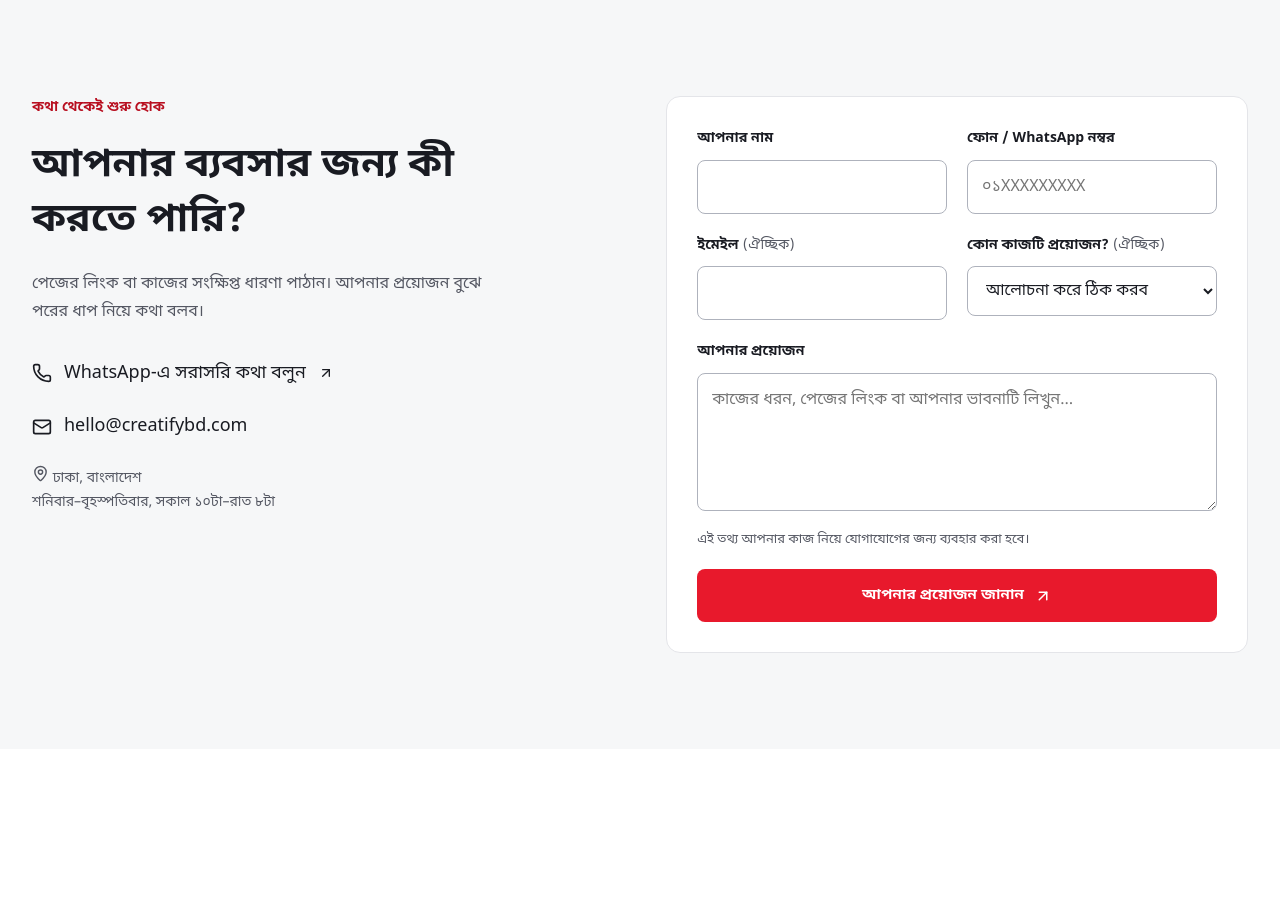
Bengali inquiry form › keeps the draft and allows retry after a network failure
Type "আলিফ হাসান" into the field labelled "আপনার নাম" at (822,186), box [697, 160, 947, 214]
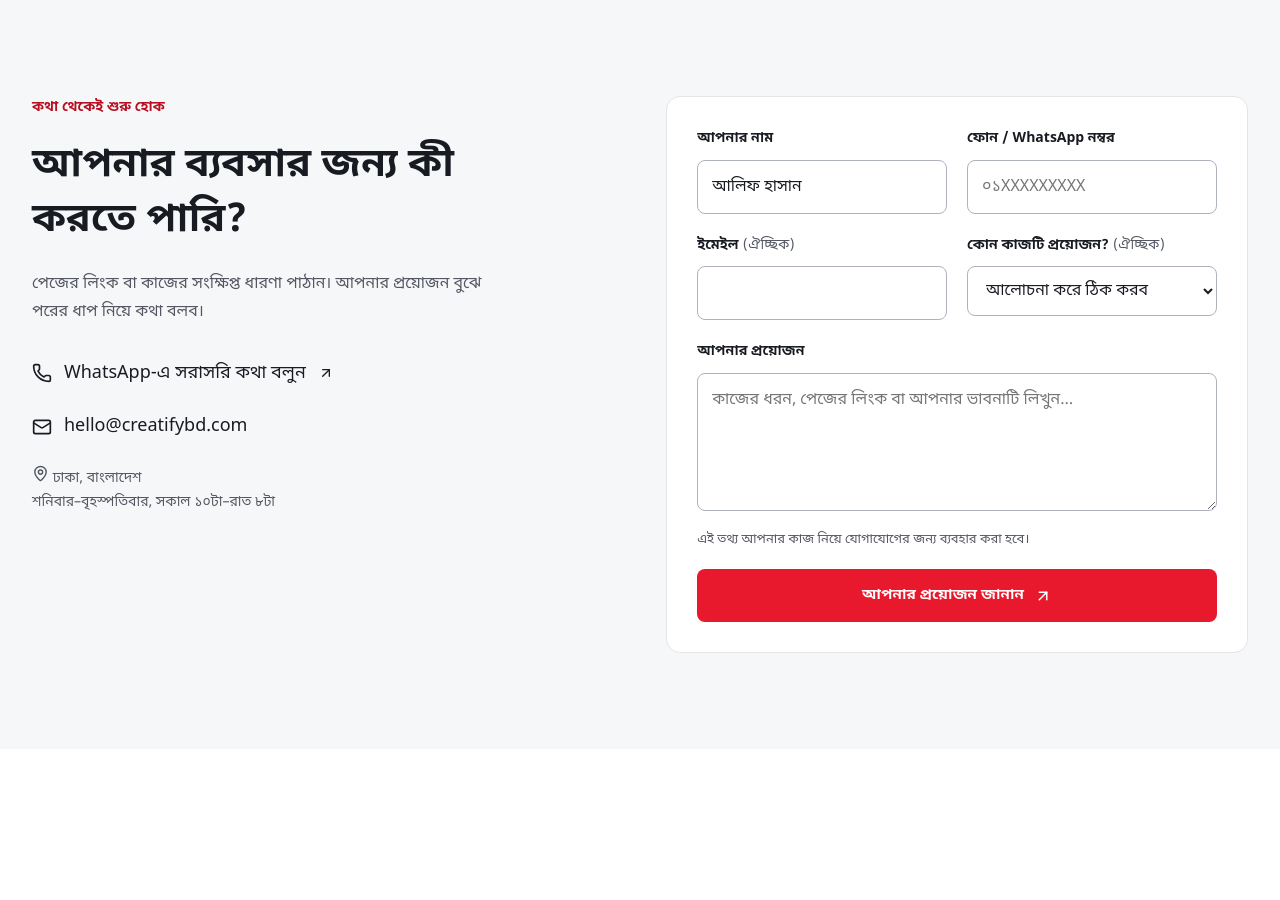
Type "০১৭১২ ৩৪৫৬৭৮" into the field labelled "ফোন / WhatsApp নম্বর" at (1092,186), box [967, 160, 1217, 214]
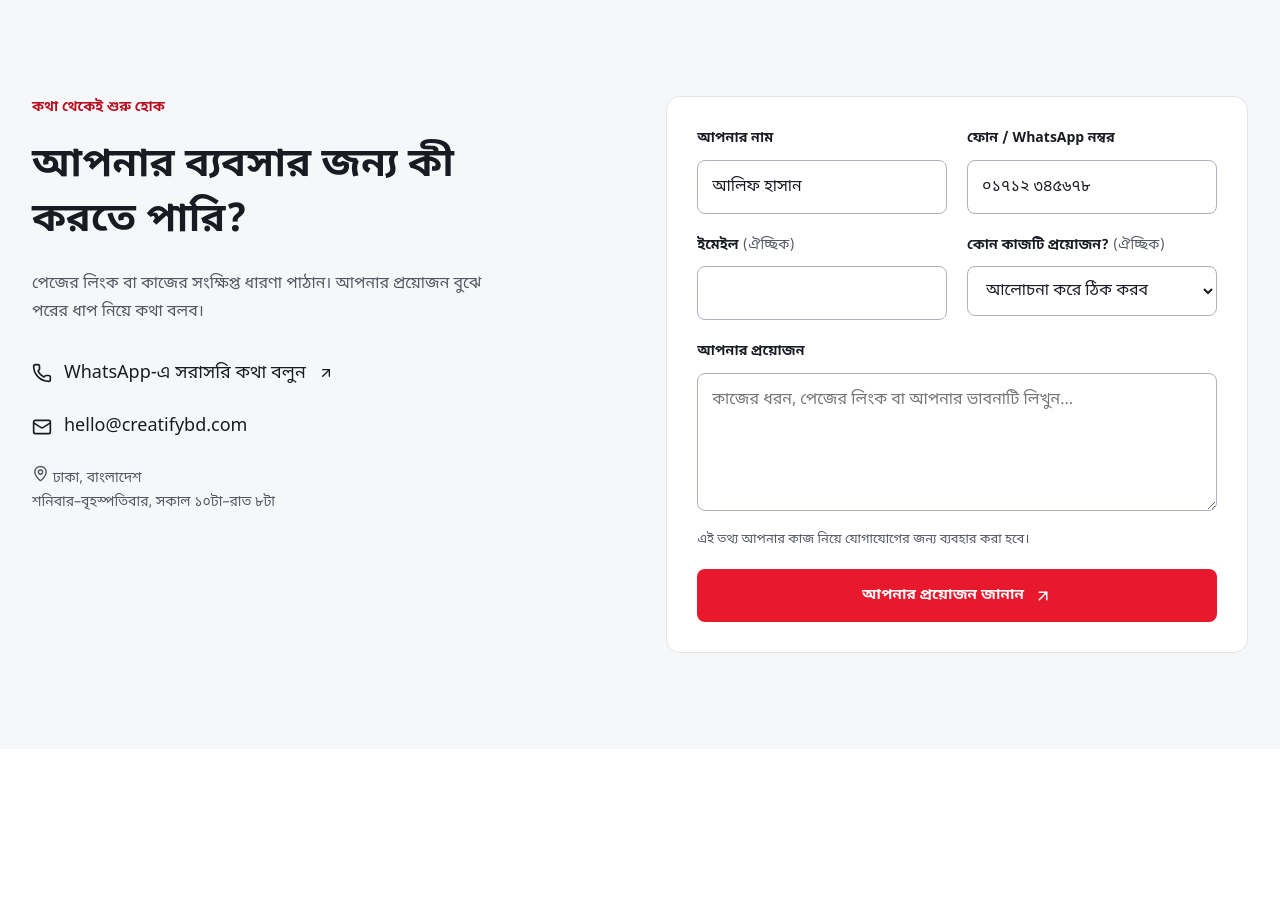
Type "আমার দোকানের জন্য মাসিক পোস্ট ডিজাইন দরকার।" into the text box labelled "আপনার প্রয়োজন" at (957,442), box [697, 372, 1217, 510]
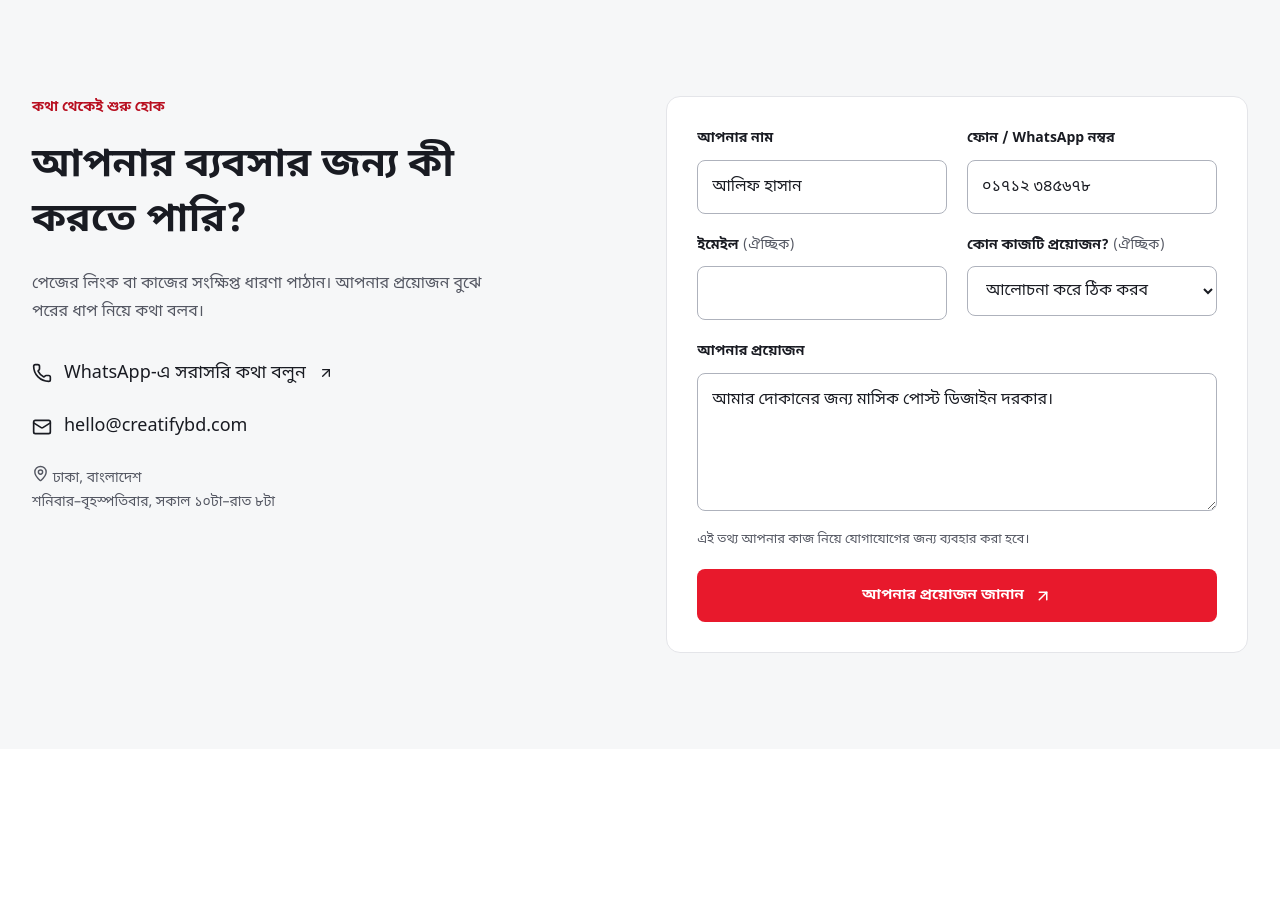
Click the button "আপনার প্রয়োজন জানান" at (957,596), box [697, 569, 1217, 622]
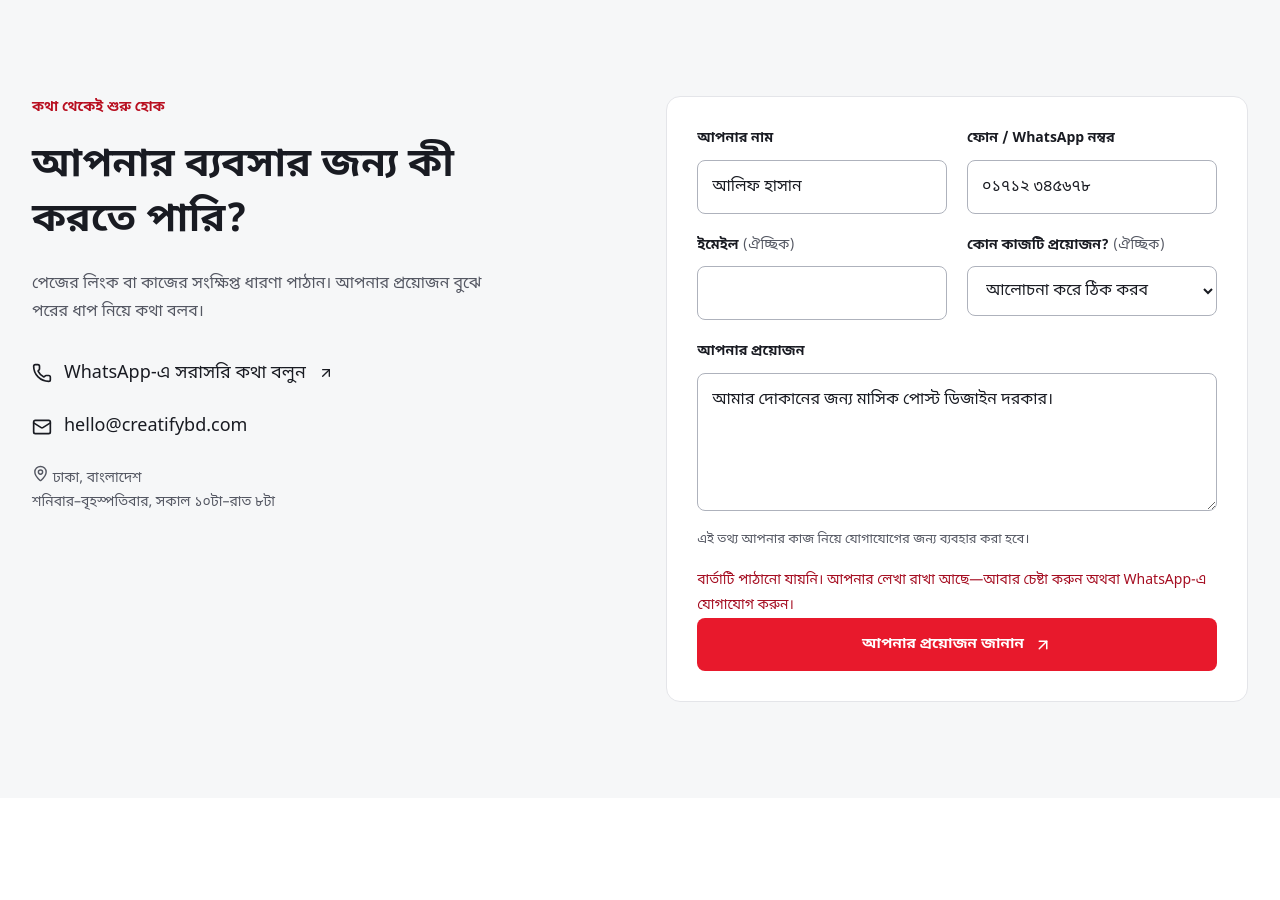
Check: the message shows "আপনার লেখা রাখা আছে", box [697, 571, 1206, 615]
Click the button "আপনার প্রয়োজন জানান" at (957,645), box [697, 618, 1217, 671]
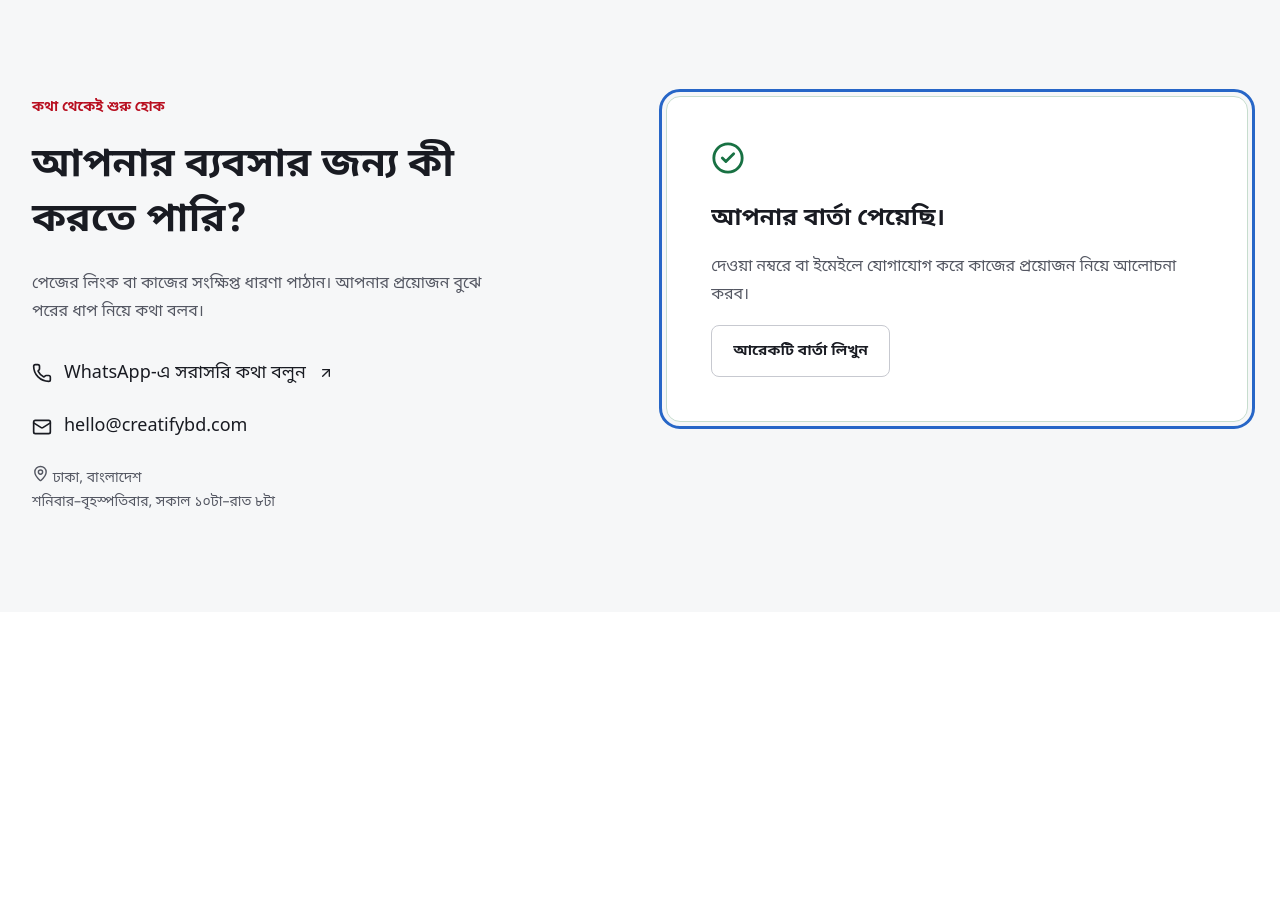
Check: the message shows "আপনার বার্তা পেয়েছি।", box [711, 203, 945, 235]
